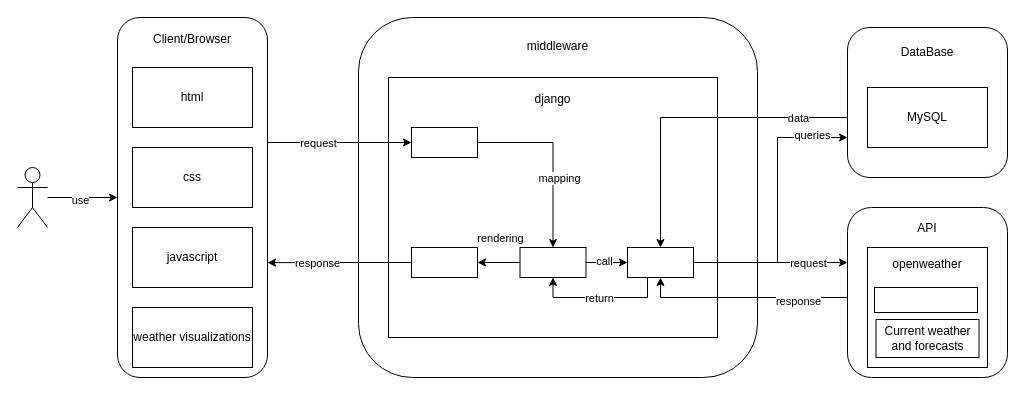
This 1025x395 diagram has some shape labels left out. Here are the shapes that lost their labels. From the top down, the centre of each, then its label:
point 444,142: urls
point 32,197: User
point 444,262: Templates
point 552,262: views
point 660,262: models
point 926,299: Weather Map
